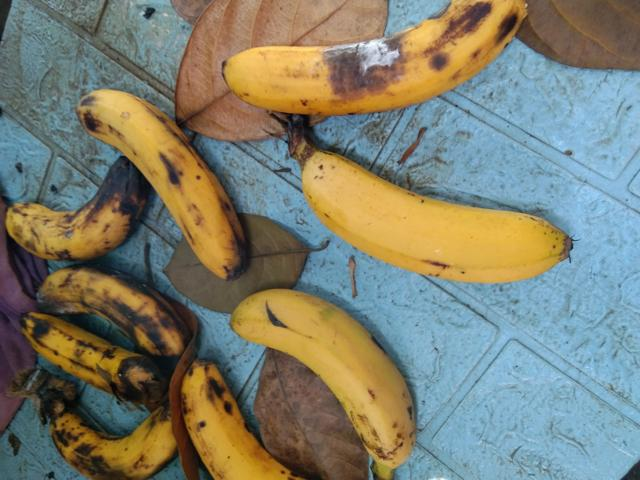freshripe: (300, 136, 629, 305), (230, 289, 437, 468)
ripe: (78, 76, 256, 286), (180, 360, 303, 479)
rotten: (217, 0, 512, 128), (16, 312, 175, 411), (38, 265, 189, 357), (1, 170, 148, 259), (50, 392, 182, 475)
